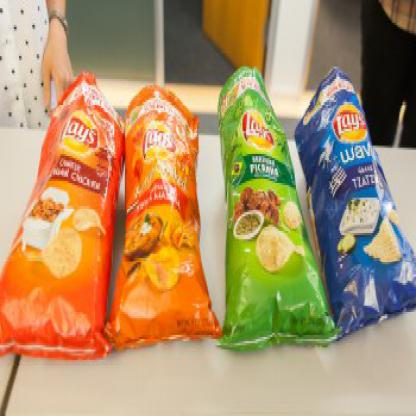potatochip: (213, 60, 343, 358), (0, 66, 130, 364), (290, 63, 415, 350), (101, 84, 228, 358)
